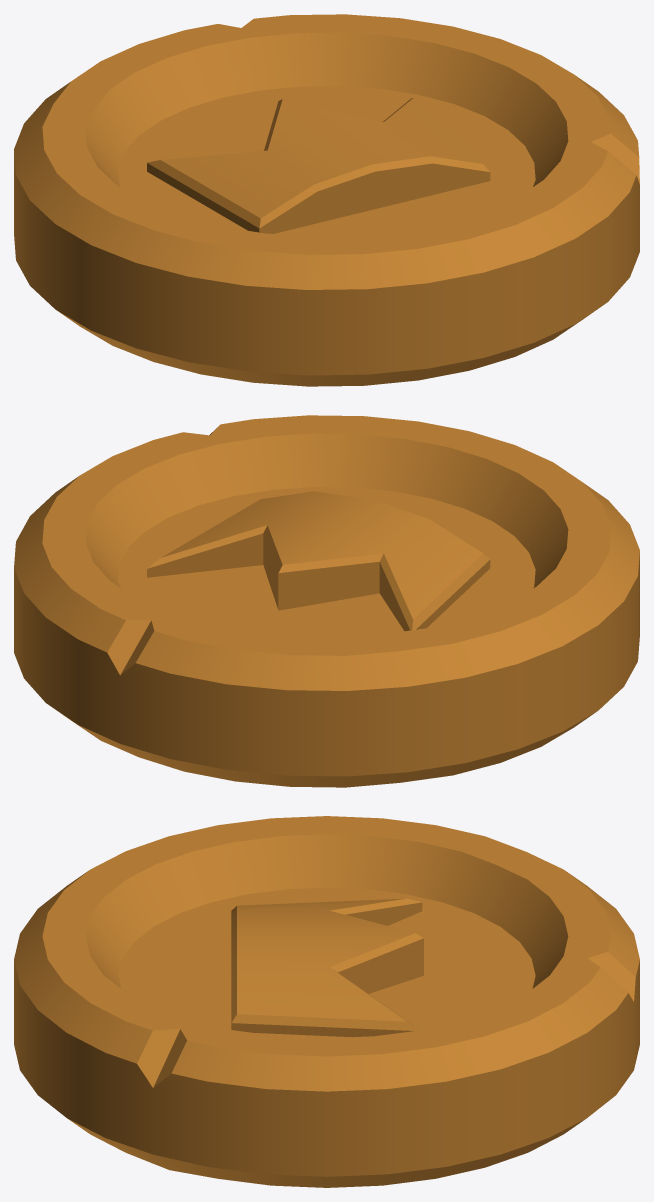
File: coins_low.fbx
3 renders of one model, top to bottom at view 1: azimuth 30°, elevation 25°; view 2: azimuth 150°, elevation 25°; view 3: azimuth 270°, elevation 25°, orthographic.
Visible parts, largest first — view 1: coin_low, crown_low; view 2: coin_low, crown_low; view 3: coin_low, crown_low.
Part boxes in pixels (bbox=[...]): coin_low: bbox=[14, 14, 639, 386]; crown_low: bbox=[147, 98, 490, 233]; coin_low: bbox=[14, 415, 639, 787]; crown_low: bbox=[147, 491, 490, 631]; coin_low: bbox=[14, 816, 639, 1187]; crown_low: bbox=[231, 898, 423, 1037].
Size of the model in its own units: 446 by 108 by 446.
